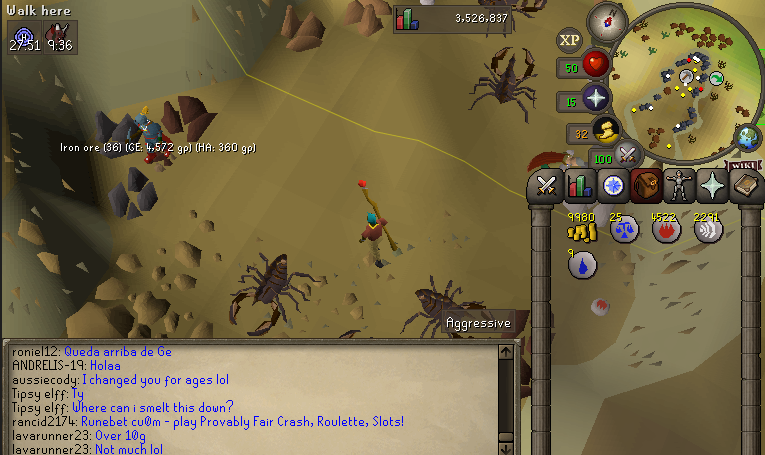depleted: (101, 165, 164, 223), (86, 106, 149, 159)
iron: (159, 90, 222, 146), (503, 306, 533, 354)
